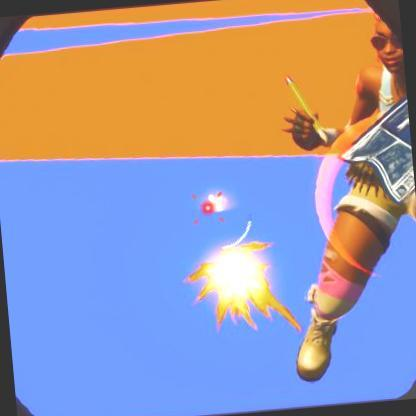person: (324, 23, 416, 305)
